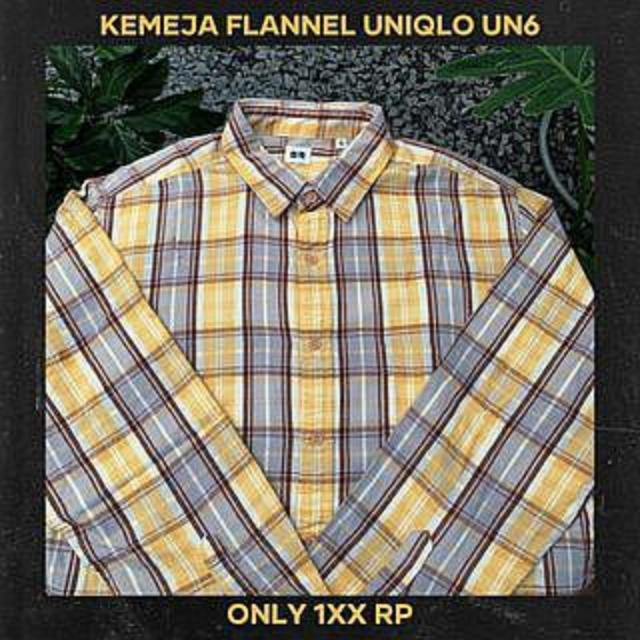SHIRT: (35, 94, 606, 600)
